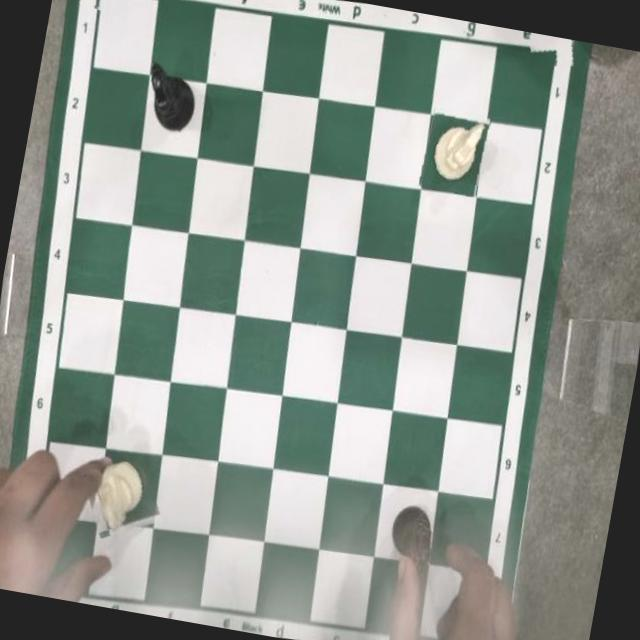chess-table-corners: (526, 32, 580, 72), (452, 608, 509, 640), (0, 570, 45, 596), (80, 0, 119, 12)
